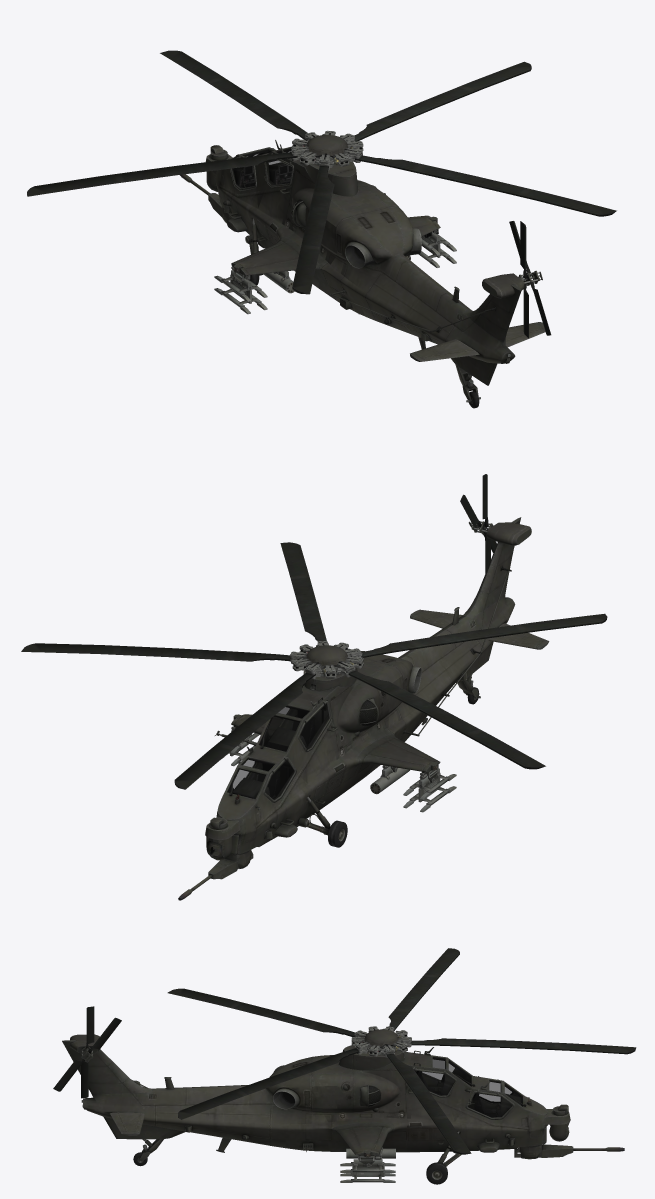
The model's file is type_z10.glb.
3 views of the same model, one above another, from view 1: azimuth 30°, elevation 25°; view 2: azimuth 150°, elevation 25°; view 3: azimuth 270°, elevation 25° (orthographic). The views are drawn at different scales.
Parts seen in each view (by area): view 1: Object_2, Object_8, Object_7, Object_6, Object_4, Object_3, Object_5, Object_11; view 2: Object_2, Object_8, Object_7, Object_6, Object_3, Object_4, Object_11, Object_5; view 3: Object_7, Object_2, Object_3, Object_8, Object_6, Object_4, Object_5, Object_11.
Boxes of the visible parts, x1,y1,x2,y2 form: Object_2: [27, 50, 616, 383]; Object_8: [223, 140, 521, 363]; Object_7: [205, 146, 524, 402]; Object_6: [215, 140, 507, 384]; Object_4: [180, 130, 545, 408]; Object_3: [209, 135, 551, 338]; Object_5: [214, 133, 497, 402]; Object_11: [231, 147, 291, 188]; Object_2: [21, 542, 607, 858]; Object_8: [205, 518, 520, 854]; Object_7: [206, 517, 531, 854]; Object_6: [212, 543, 512, 858]; Object_3: [207, 474, 496, 860]; Object_4: [178, 521, 549, 900]; Object_11: [211, 704, 329, 856]; Object_5: [222, 609, 493, 826]; Object_7: [62, 1034, 569, 1179]; Object_2: [167, 948, 636, 1184]; Object_3: [53, 1006, 569, 1151]; Object_8: [62, 1041, 570, 1155]; Object_6: [111, 1047, 540, 1179]; Object_4: [81, 1026, 624, 1166]; Object_5: [103, 1028, 513, 1182]; Object_11: [415, 1056, 569, 1131].
Bounding box in the file's own units: 11.72 × 4.67 × 14.15.
Materials: 4 (1 with a texture image).
